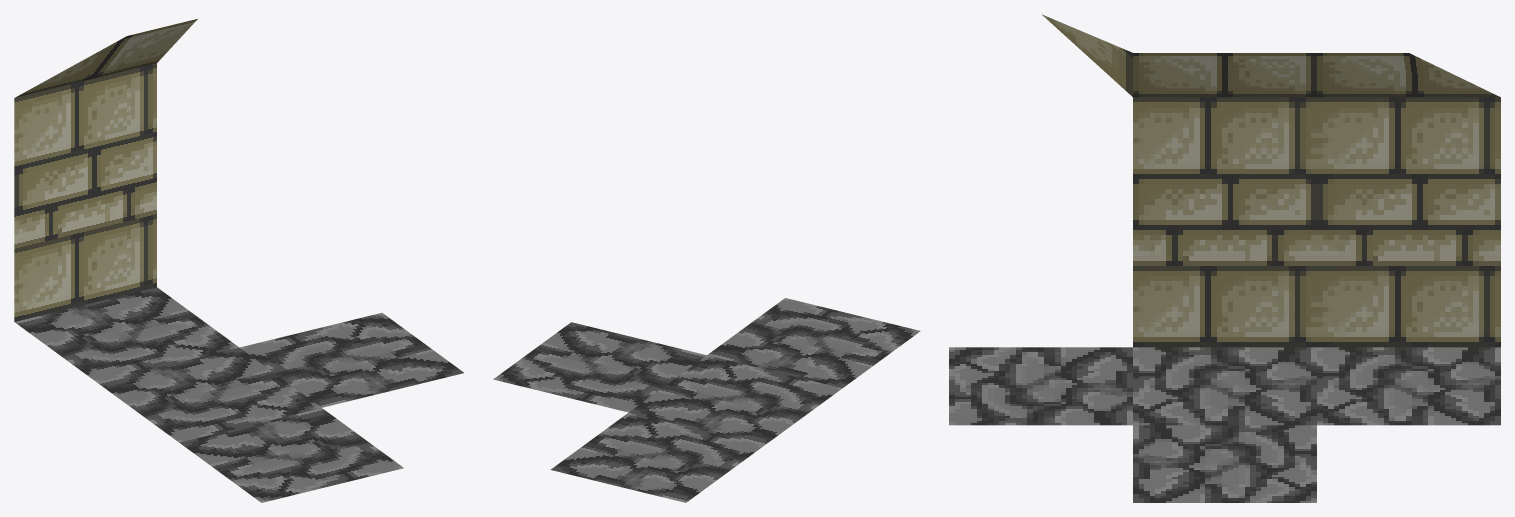
File: dungeon_tiles.glb
3 renders of one model, left to right at view 1: azimuth 30°, elevation 25°; view 2: azimuth 150°, elevation 25°; view 3: azimuth 270°, elevation 25°, orthographic. The views are drawn at different scales.
Parts seen in each view (by area): view 1: corner_in, floor, wall, corner_out; view 2: corner_in, floor, wall, corner_out; view 3: wall, corner_in, corner_out, floor.
Boxes of the visible parts, x1,y1,x2,y2 form: corner_in: (14,19,238,382); floor: (240,313,463,407); wall: (97,347,321,442); corner_out: (179,408,403,502); corner_in: (550,412,763,502); floor: (493,322,706,412); wall: (629,355,841,445); corner_out: (707,298,920,388); wall: (1133,53,1316,425); corner_in: (1317,53,1500,425); corner_out: (949,14,1132,425); floor: (1133,425,1316,502).
Size of the model in its own units: 4 by 4 by 6.
2 materials, 2 textured.
